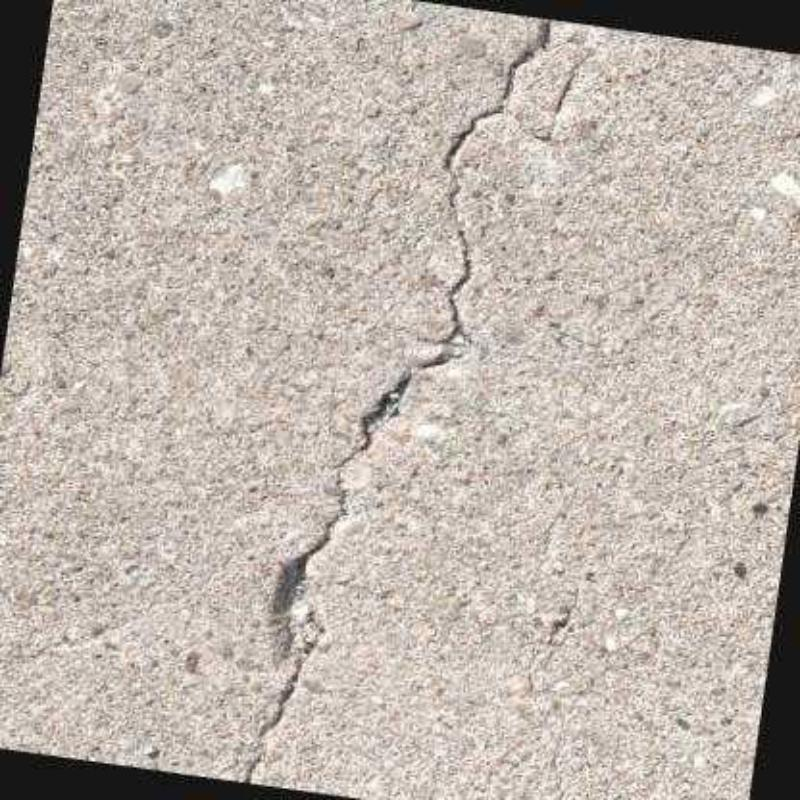pothole: (242, 16, 552, 783)
